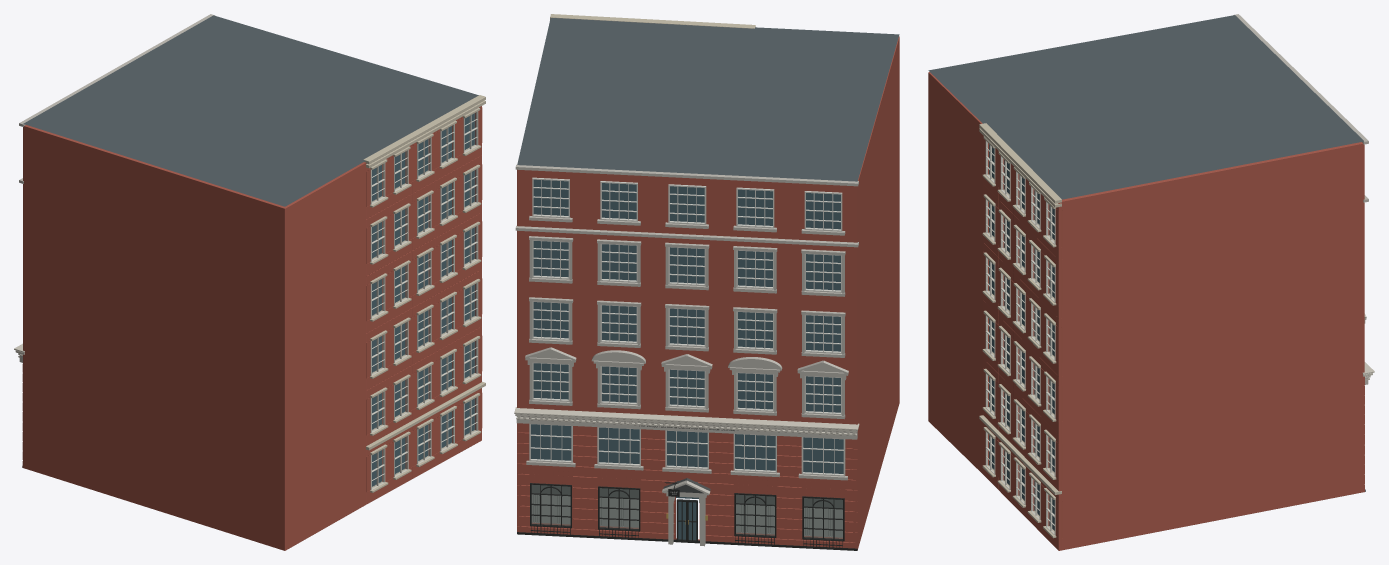
File: sar-exterior-8ba7357a5276.glb
3 renders of one model, left to right at view 1: azimuth 30°, elevation 25°; view 2: azimuth 150°, elevation 25°; view 3: azimuth 270°, elevation 25°, orthographic. The views are drawn at different scales.
Visible parts, largest first — view 1: SAR.001; view 2: SAR.001; view 3: SAR.001.
Part boxes in pixels (x1=…): SAR.001: x1=14, y1=14, x2=485, y2=550; SAR.001: x1=514, y1=14, x2=899, y2=550; SAR.001: x1=928, y1=14, x2=1374, y2=550.
Bounding box in the file's own units: 26.64 × 23.15 × 26.67.
